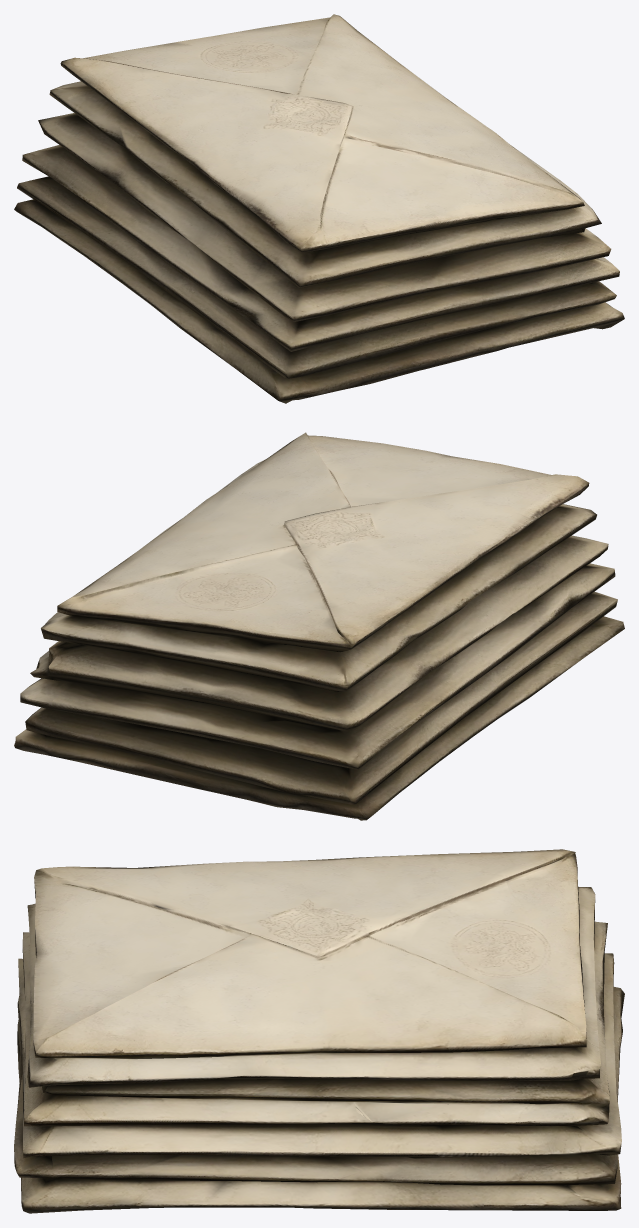
The model's file is envelope_stack.glb.
The picture shows the model from 3 angles, top to bottom: view 1: azimuth 30°, elevation 25°; view 2: azimuth 150°, elevation 25°; view 3: azimuth 270°, elevation 25°; orthographic projection. The views are drawn at different scales.
Parts seen in each view (by area): view 1: tripo_node_18fa3c6b-138e-4bc0-87bf-cb6953d9af82; view 2: tripo_node_18fa3c6b-138e-4bc0-87bf-cb6953d9af82; view 3: tripo_node_18fa3c6b-138e-4bc0-87bf-cb6953d9af82.
Boxes of the visible parts, x1=… form: tripo_node_18fa3c6b-138e-4bc0-87bf-cb6953d9af82: x1=14, y1=14, x2=624, y2=403; tripo_node_18fa3c6b-138e-4bc0-87bf-cb6953d9af82: x1=14, y1=432, x2=624, y2=820; tripo_node_18fa3c6b-138e-4bc0-87bf-cb6953d9af82: x1=14, y1=849, x2=624, y2=1213.
Bounding box in the file's own units: 0.7657 × 0.3603 × 1.
Materials: 1 (1 with a texture image).
